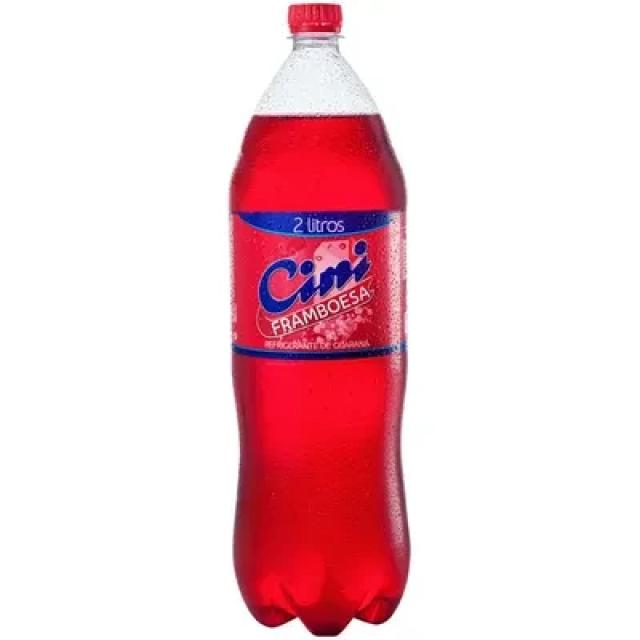bottom: (234, 416, 409, 635)
label: (233, 211, 404, 357)
neck: (230, 4, 405, 212)
